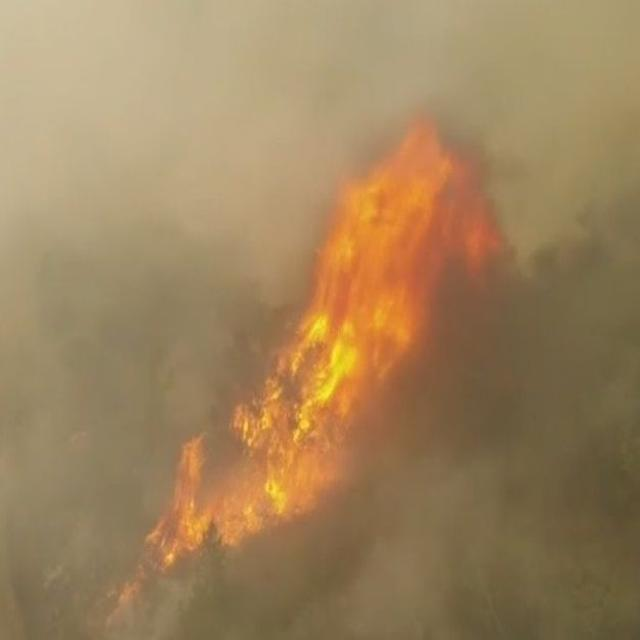Fire: (146, 146, 492, 578)
Smoke: (8, 0, 346, 553), (337, 408, 640, 627), (503, 0, 640, 246), (361, 0, 503, 144)
